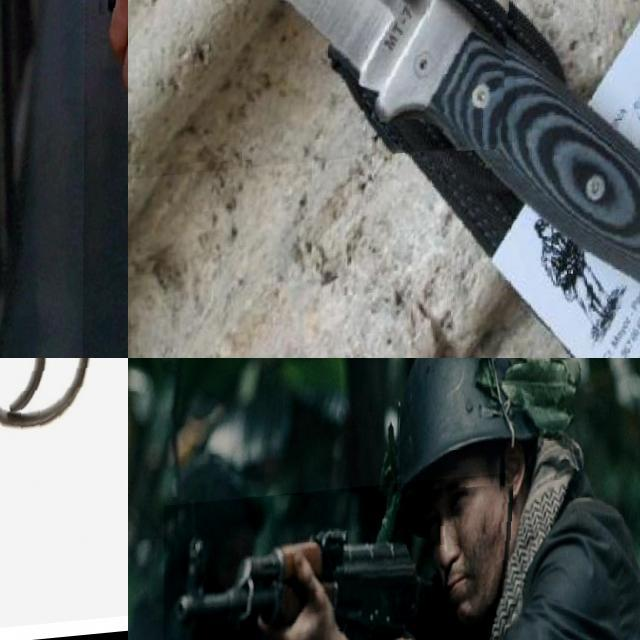-: (128, 0, 519, 201)
gun-knife-thesis - v11 Yolov5 augmented: (162, 480, 508, 640), (0, 358, 128, 640), (82, 0, 128, 358)
